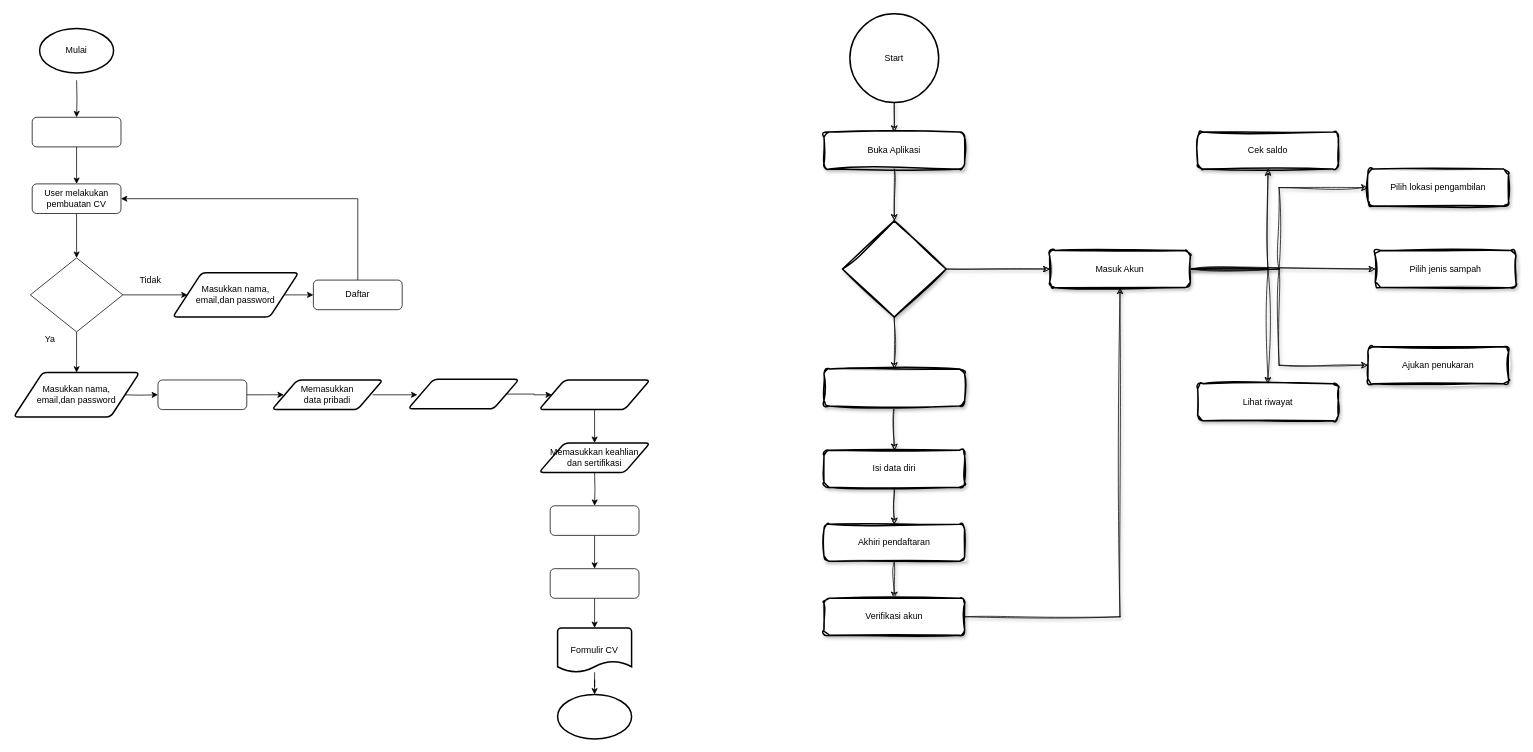
Image size: 1533x752. Some labels were removed from this diagram. Each missing label, with the centre of its shape:
"Apakah anda sudah memiliki akun" goes at point (894, 270).
"Apakah sudah memiliki account" goes at point (76, 294).
"Daftar akun" goes at point (894, 388).
"Memasukkan riwayat pendidikan" goes at point (463, 393).
"Memasukkan riwayat pengalaman kerja" goes at point (594, 394).
"Memilih template CV" goes at point (202, 394).
"Pratinjau CV" goes at point (594, 520).
"Selesai" goes at point (594, 716).
"Simpan dalam bentuk format" goes at point (594, 583).
"User membuka website pembuatan CV" goes at point (76, 132).
